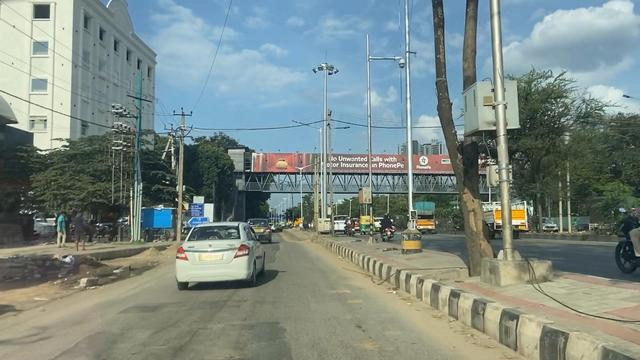LMV: (178, 220, 250, 290)
UnsurfacedRoad: (106, 300, 307, 360)
